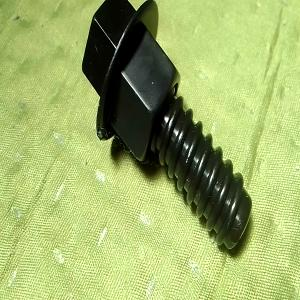parafuso: (81, 0, 254, 251)
